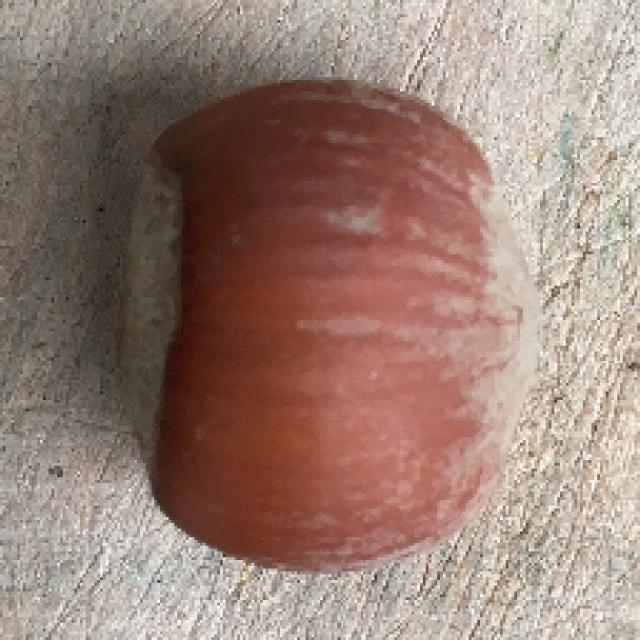QualityHazelnut: (118, 78, 545, 574)
